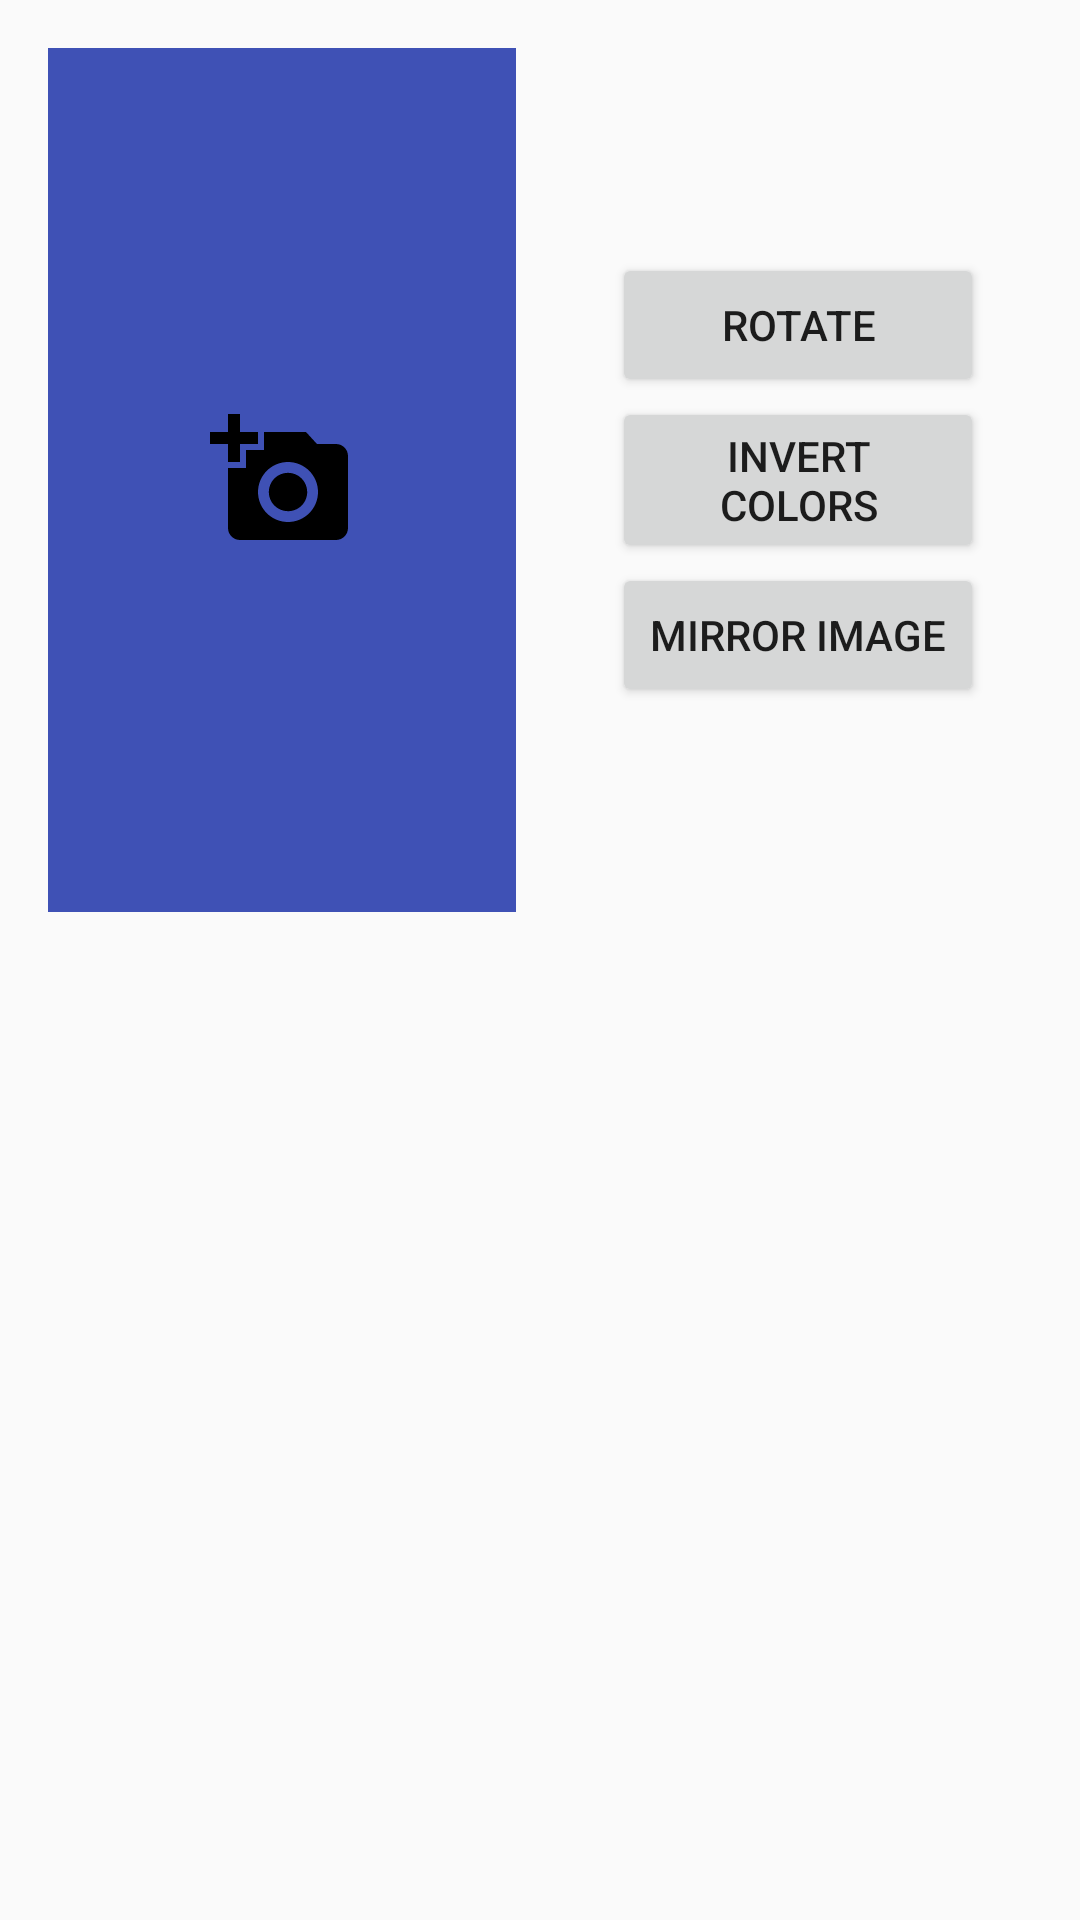

Where icons sit on this 1080 × 1920 app screen, as (x1, y1, x2, y2):
Add image: (210, 414, 348, 540)
